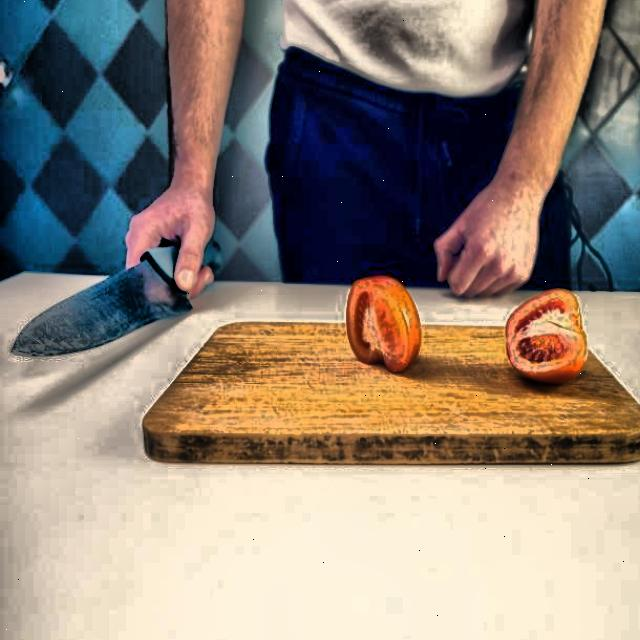knife: (12, 242, 228, 370)
